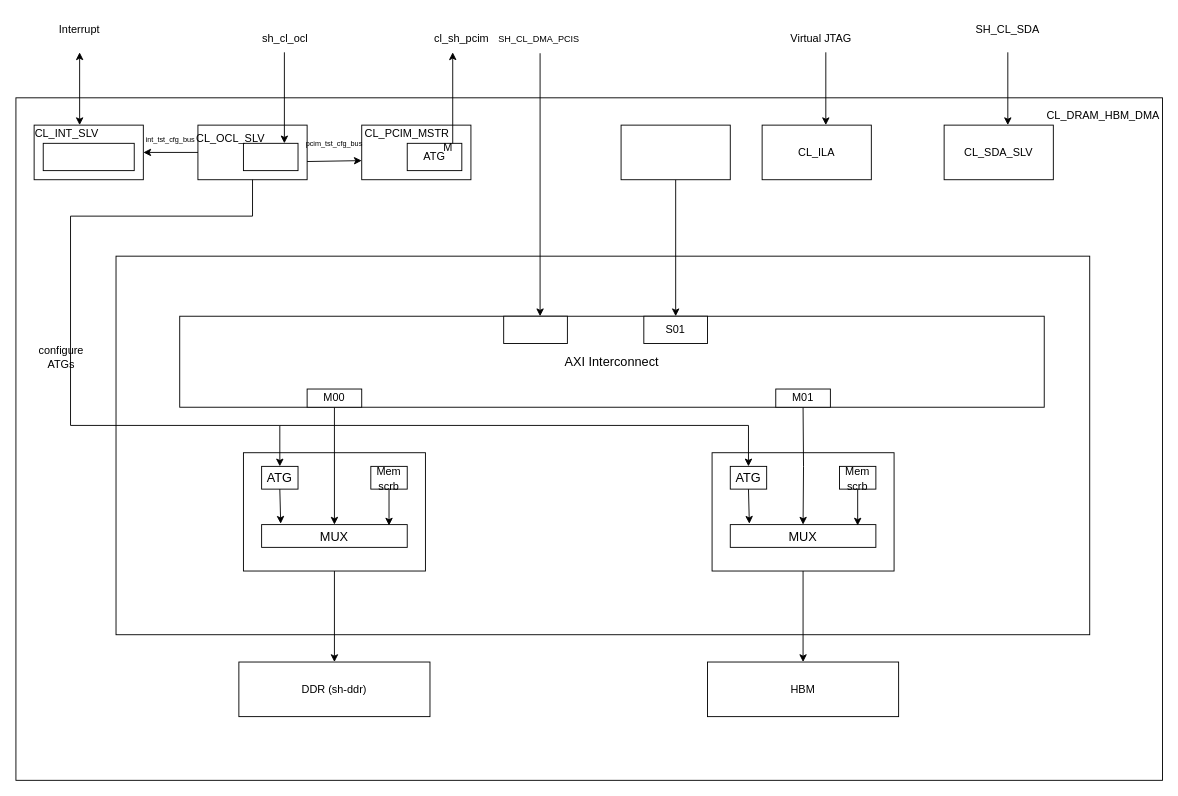
Image size: 1178x796. Some labels were removed from this diagram. The shapes that lost their labels are listed below. From the top down, each one's centre as x and y in pixels, then its label:
At [88,156]: "Interrupt generator".
At [270,156]: "Addr decode".
At [675,152]: "Tied off but can replaced with a CL block with AXI interface".
At [535,329]: "S00".
